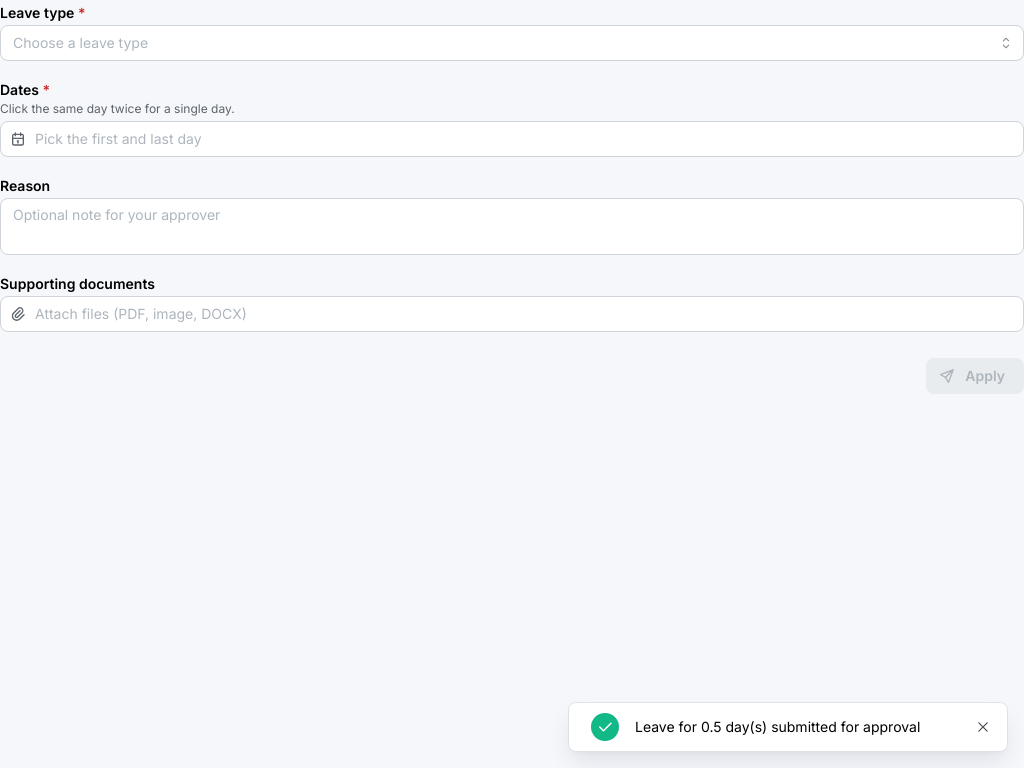
Test: Leave UI › FR-063 shows the selected type balance and the requested day count
This screenshot has width=1024, height=768.
Click the dropdown labelled "Leave type *" at point(512, 43), box [0,25,1023,61]
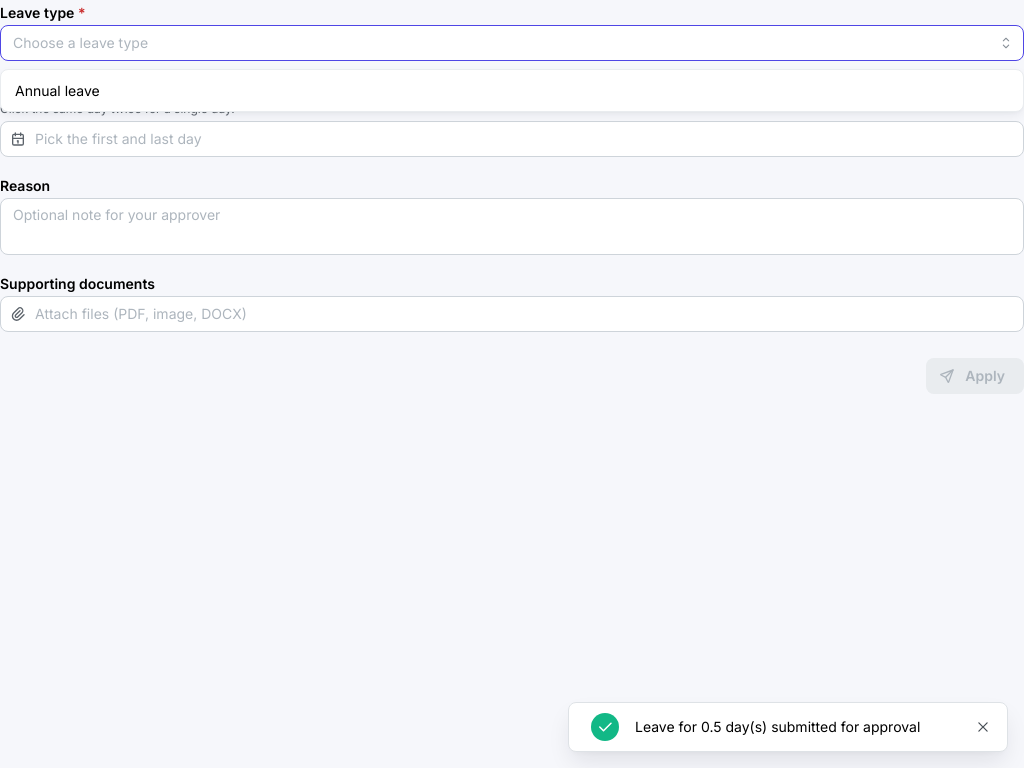
Click the option "Annual leave" at point(57, 90), box [15,82,100,99]
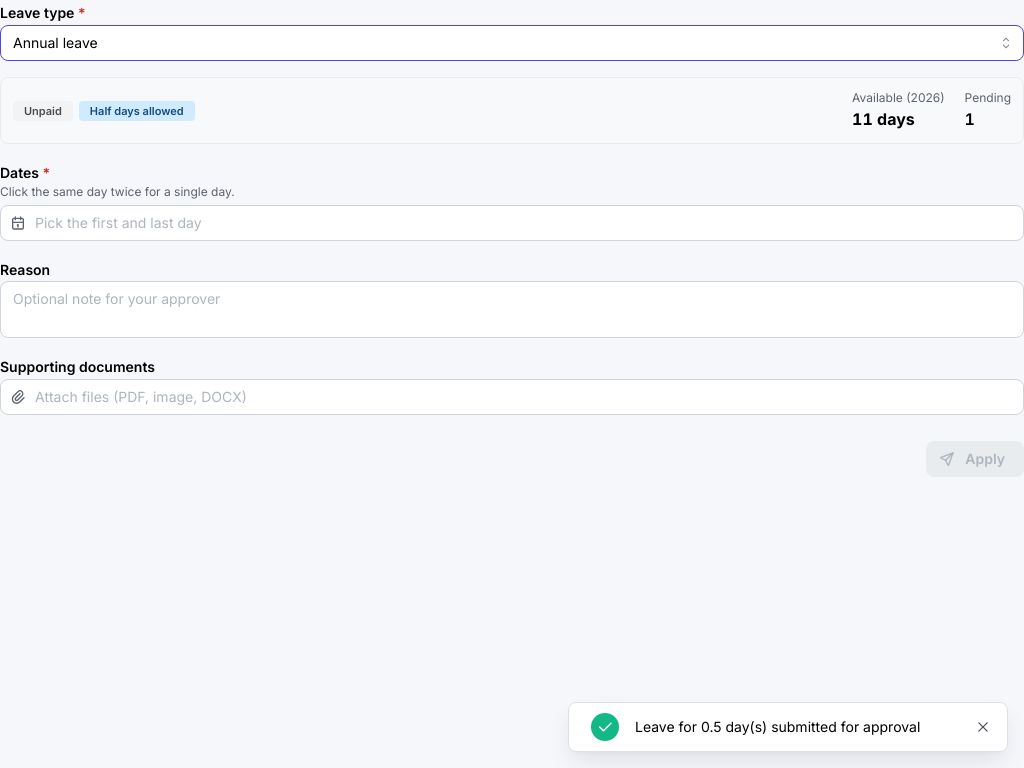
Check: the text "11 days" is shown, box [852,109,915,129]
Click the button named "Dates" at point(118, 222), box [0,205,1023,241]
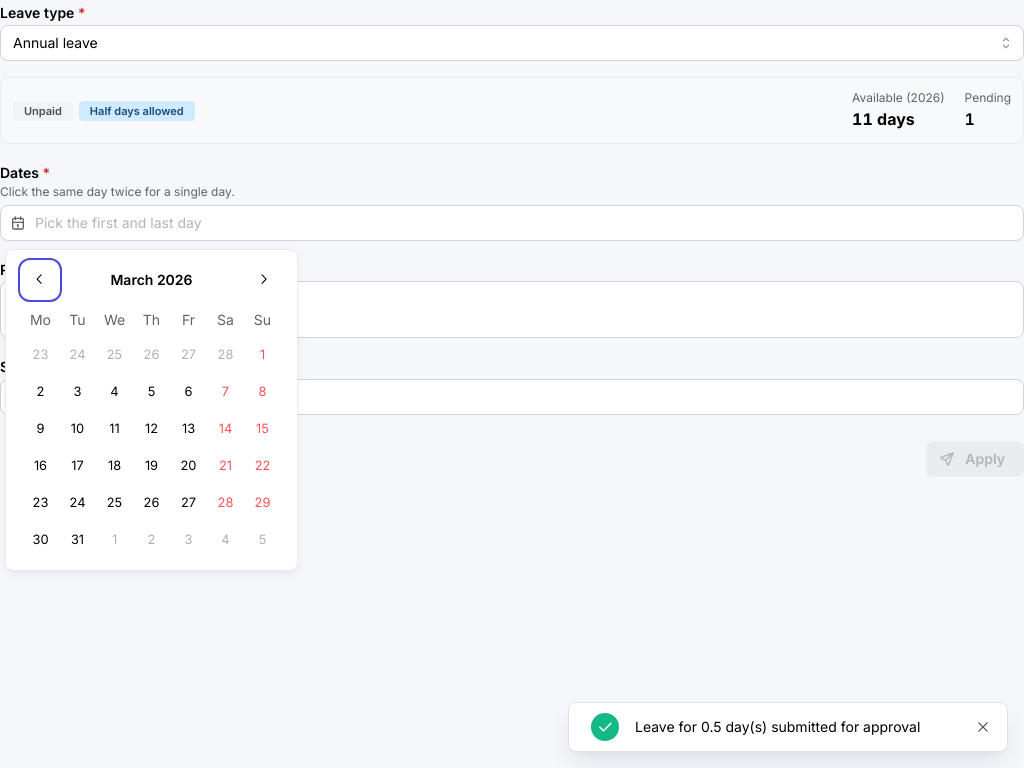
Click the button named "16 March 2026" at point(40, 466), box [22,448,58,484]
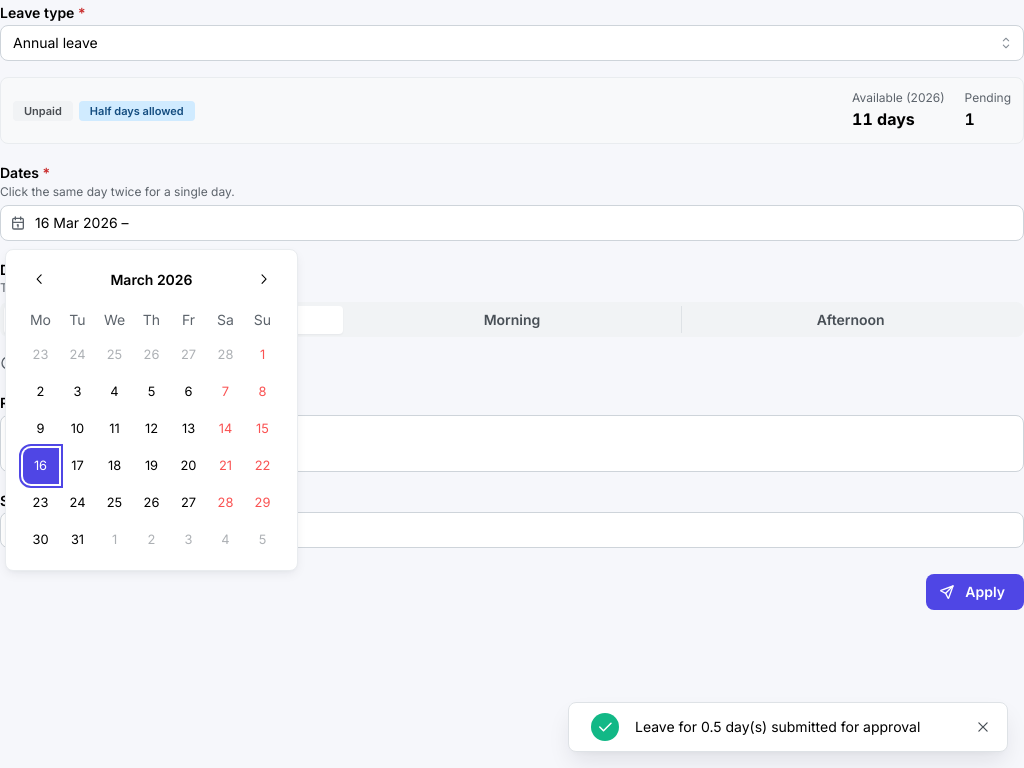
Click the button named "18 March 2026" at point(114, 466), box [96,448,132,484]
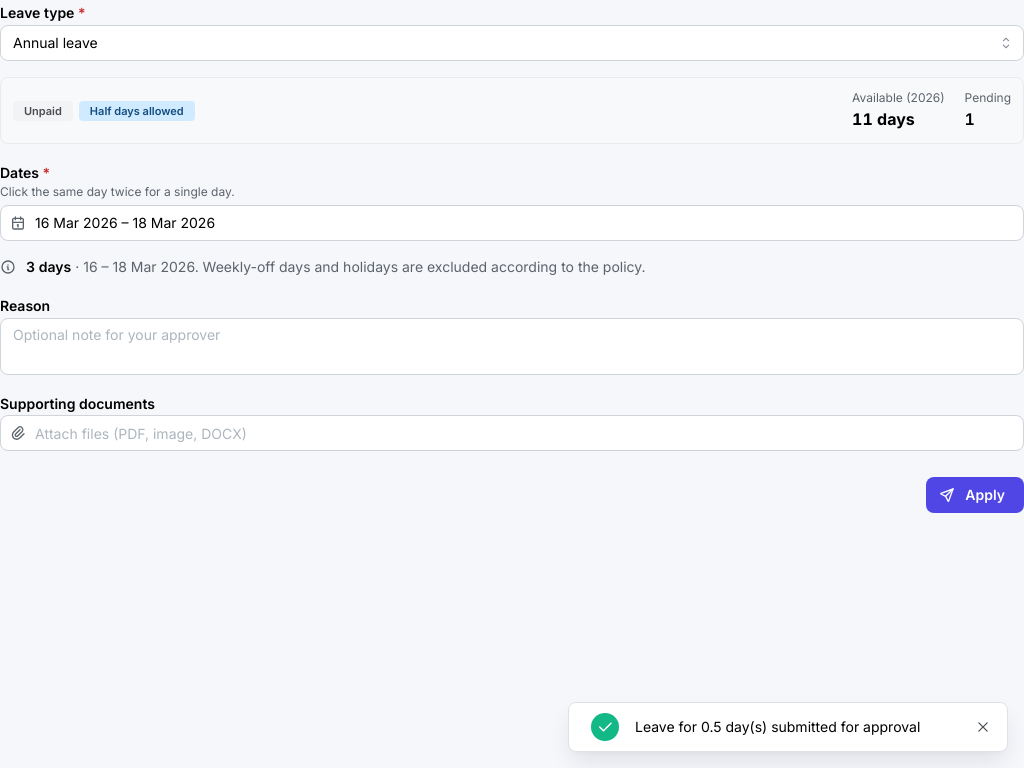
Check: the text "3 days" is shown, box [26,258,71,275]
